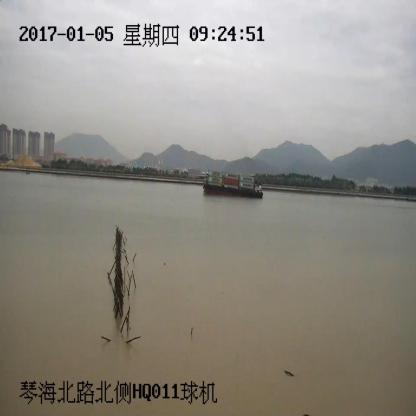Container Ship: (203, 170, 263, 199)
